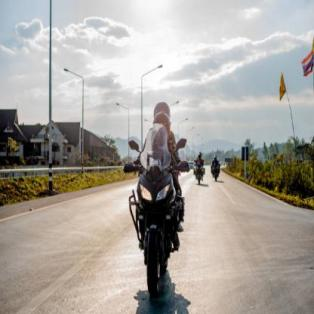Motocicleta: (116, 135, 188, 309)
